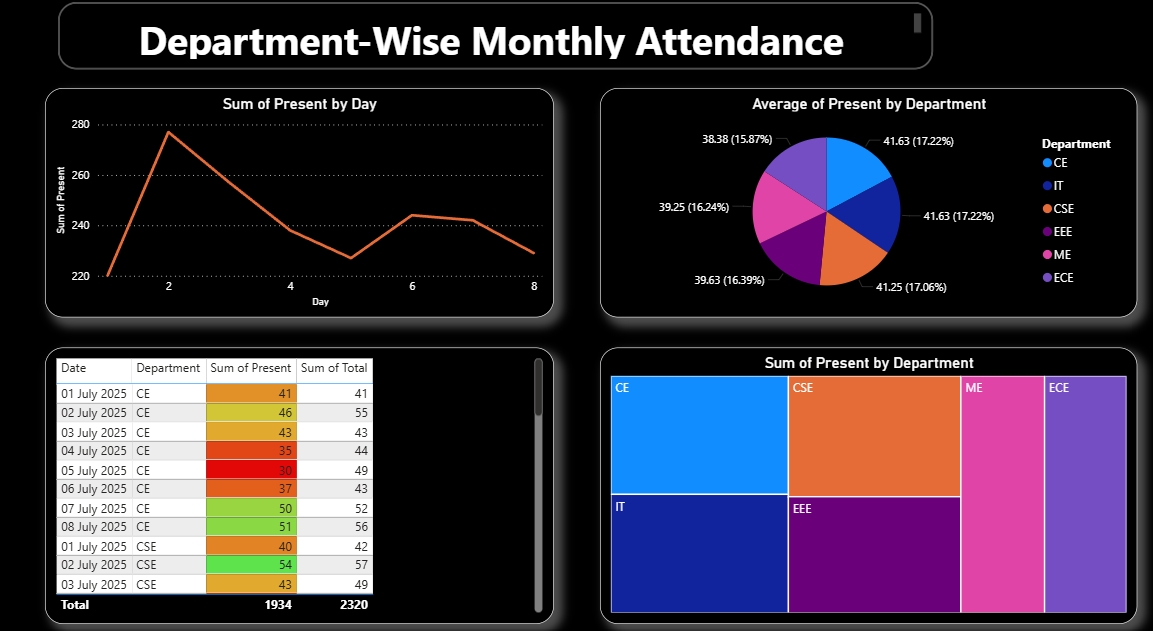

The dashboard page shown, as its layout file describes it:
{"tool":"powerbi","page":{"name":"Page 1","canvas":[1280,720],"ordinal":0},"visuals":[{"type":"lineChart","fields":{"Category":["Sheet1.Date.Variation.Date Hierarchy.Day"],"Y":["Sum(Sheet1.Present)"]},"box":[53.3,106.7,561.7,253.3],"z":0},{"type":"pieChart","fields":{"Category":["Sheet1.Department"],"Y":["Avg(Sheet1.Present)"]},"box":[666.7,106.7,593.3,253.3],"z":1},{"type":"tableEx","fields":{"Values":["Sheet1.Date","Sheet1.Department","Sum(Sheet1.Present)","Sum(Sheet1.Total)"]},"box":[53.3,393.3,561.7,305],"z":2},{"type":"treemap","fields":{"Group":["Sheet1.Department"],"Values":["Sum(Sheet1.Present)"]},"box":[666.7,393.3,593.3,305],"z":3},{"type":"textbox","box":[68.3,11.7,965,73.3],"z":4}]}

Visuals, with their boxes in screenshot pixels (x1, y1, x2, y2), scaled from the page's 1280x720 canvas onto the 1153x631 screenshot:
lineChart - Sheet1.Date.Variation.Date Hierarchy.Day x Sum(Sheet1.Present): detection(48, 94, 554, 316)
pieChart - Sheet1.Department x Avg(Sheet1.Present): detection(601, 94, 1135, 316)
tableEx - Sheet1.Date x Sheet1.Department: detection(48, 345, 554, 612)
treemap - Sheet1.Department x Sum(Sheet1.Present): detection(601, 345, 1135, 612)
textbox: detection(62, 10, 931, 74)
